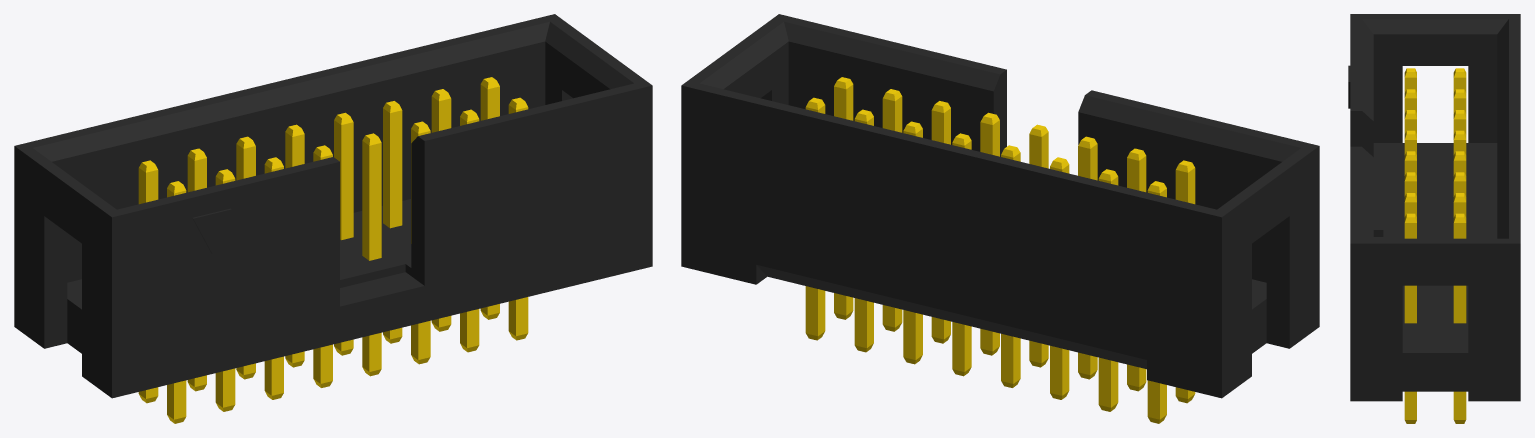
3 renders of one model, left to right at view 1: azimuth 30°, elevation 25°; view 2: azimuth 150°, elevation 25°; view 3: azimuth 270°, elevation 25°, orthographic. The views are drawn at different scales.
Visible parts, largest first — view 1: IDC (CONNFLY); view 2: IDC (CONNFLY); view 3: IDC (CONNFLY).
Part boxes in pixels (x1,y1,x2,y2): IDC (CONNFLY): (14, 14, 652, 423); IDC (CONNFLY): (681, 14, 1319, 423); IDC (CONNFLY): (1348, 14, 1520, 423).
Size of the model in its own units: 0.0281 by 0.0126 by 0.0089.
